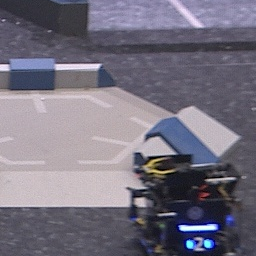Blue: (185, 237, 214, 252)
Robot: (121, 149, 247, 256)
